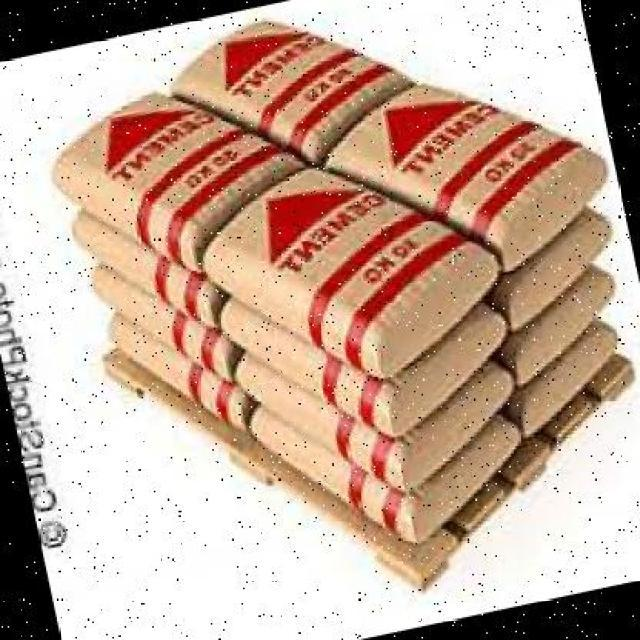gunny_bag: (317, 89, 604, 251), (173, 15, 410, 159), (219, 297, 397, 443), (232, 352, 404, 497), (202, 245, 382, 381), (247, 399, 413, 542), (87, 263, 232, 386), (72, 209, 218, 331), (106, 315, 249, 435), (52, 162, 201, 261), (496, 207, 607, 328), (510, 272, 607, 382), (521, 332, 613, 433)
